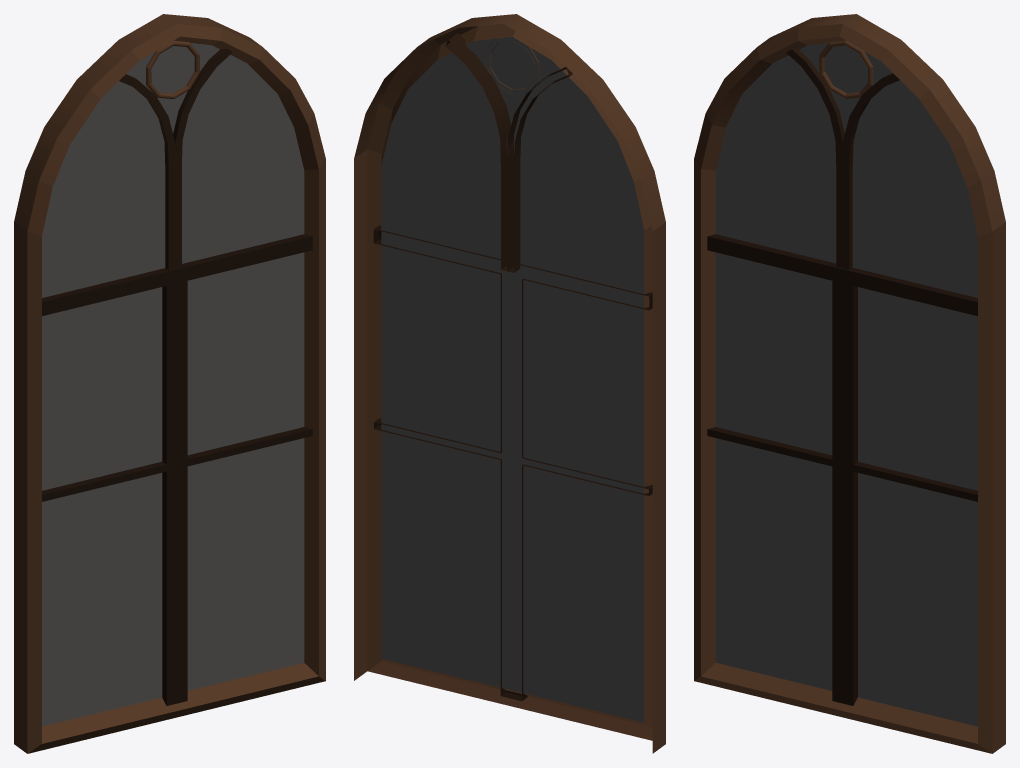
The model's file is VentanaGrande 1.fbx.
3 views of the same model, side by side, from view 1: azimuth 30°, elevation 25°; view 2: azimuth 150°, elevation 25°; view 3: azimuth 330°, elevation 25° (orthographic).
Visible parts, largest first — view 1: polySurface85; view 2: polySurface85; view 3: polySurface85.
Boxes of the visible parts, bbox=[...] form: polySurface85: bbox=[14, 14, 325, 753]; polySurface85: bbox=[354, 14, 665, 753]; polySurface85: bbox=[694, 14, 1005, 753].
Bounding box in the file's own units: 124 × 276 × 12.37.
